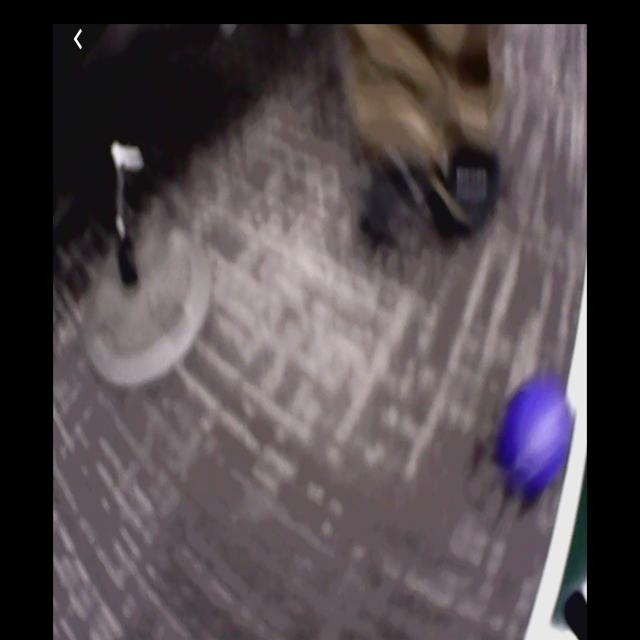ball: (501, 378, 574, 490)
